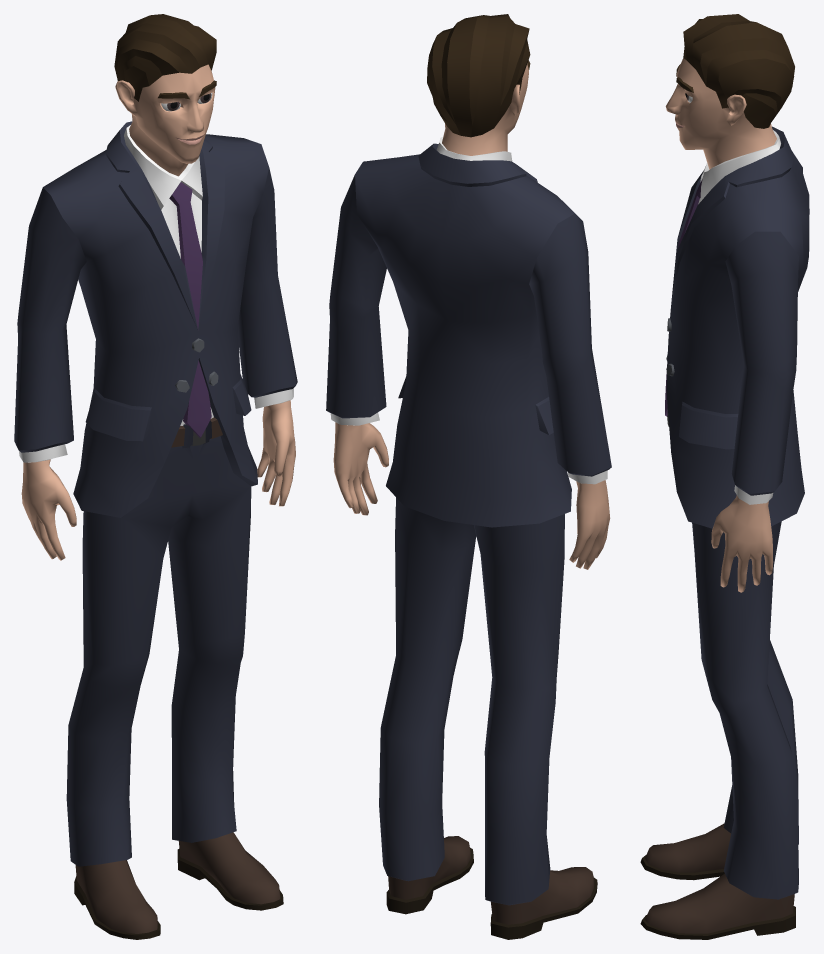
3 renders of one model, left to right at view 1: azimuth 30°, elevation 25°; view 2: azimuth 150°, elevation 25°; view 3: azimuth 270°, elevation 25°, orthographic.
Parts seen in each view (by area): view 1: man_in_suit; view 2: man_in_suit; view 3: man_in_suit.
Part boxes in pixels (x1,y1,x2,y2): man_in_suit: (14,14,297,939); man_in_suit: (326,14,611,939); man_in_suit: (640,14,809,939).
Size of the model in its own units: 59.45 by 178 by 31.12.
